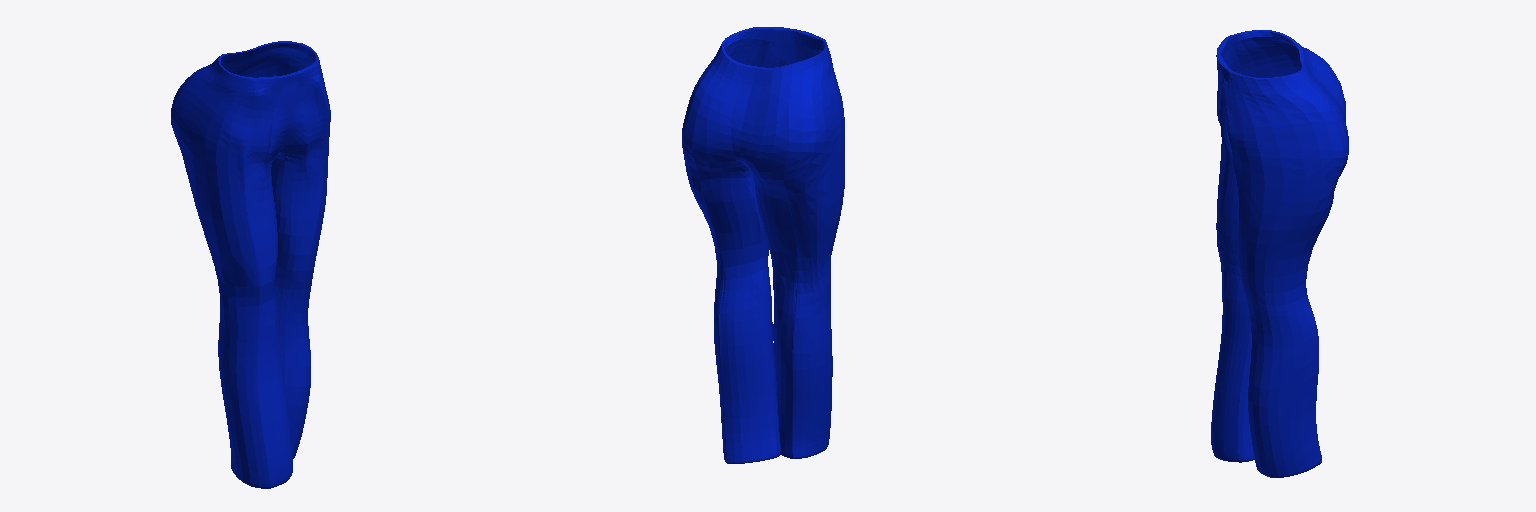
The model's file is geziku3.obj.
3 renders of one model, left to right at view 1: azimuth 30°, elevation 25°; view 2: azimuth 150°, elevation 25°; view 3: azimuth 270°, elevation 25°, orthographic.
Parts seen in each view (by area): view 1: geziku; view 2: geziku; view 3: geziku.
Boxes of the visible parts, box(x1,y1,x2,y2) form: geziku: box(171, 41, 330, 488); geziku: box(682, 27, 844, 463); geziku: box(1211, 30, 1348, 477).
Size of the model in its own units: 1.99 by 5.83 by 1.77.